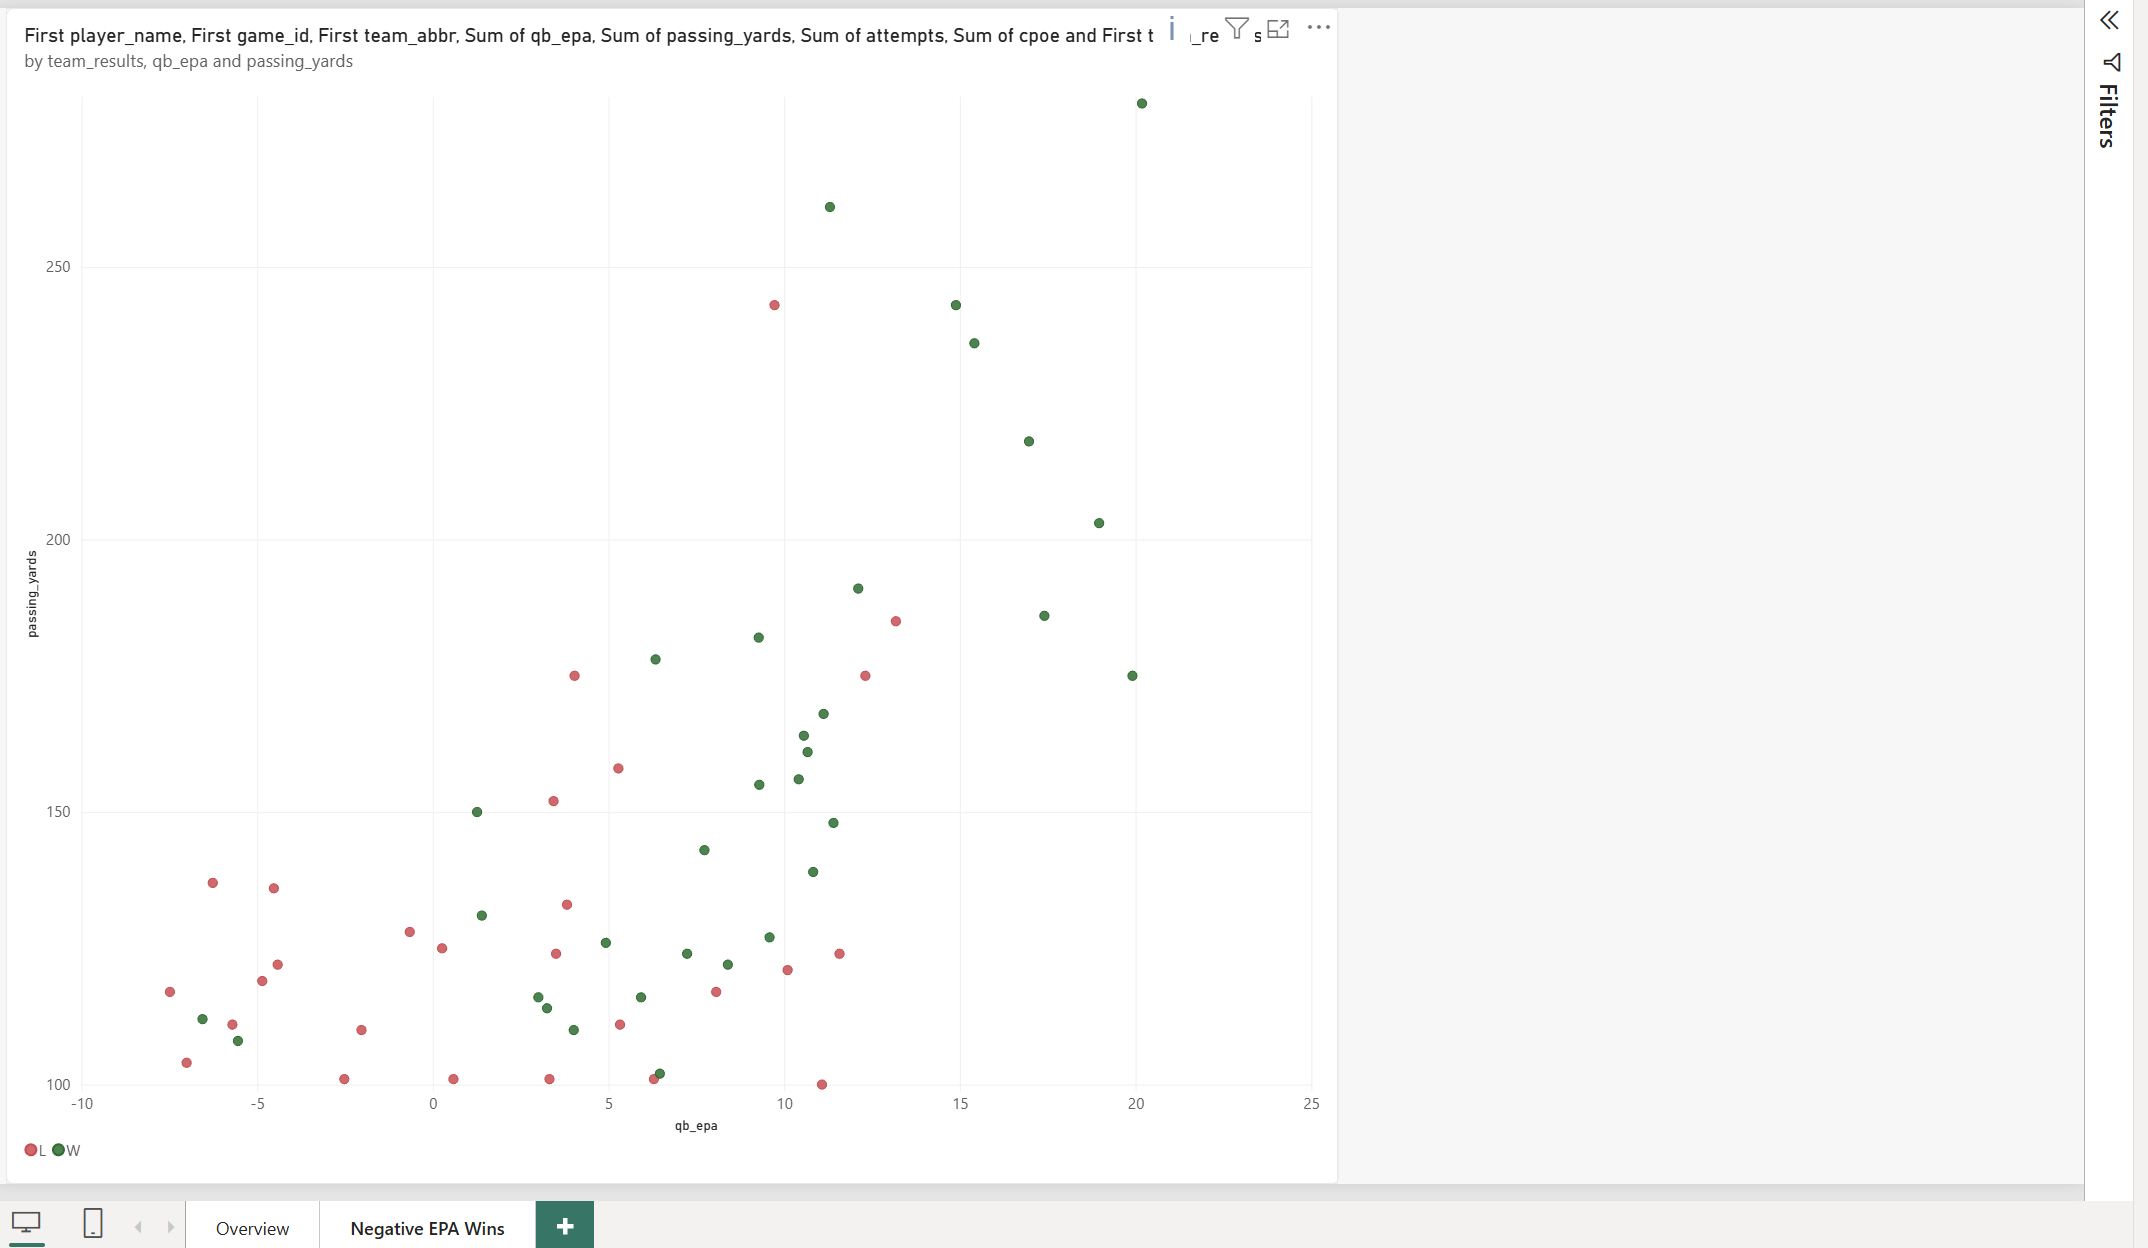

The page's visual inventory and layout, read from the dashboard file:
{"tool":"powerbi","page":{"name":"Negative EPA Wins","canvas":[1920,1080],"ordinal":1},"visuals":[{"type":"scatterChart","fields":{"Series":["nfl_analytics vw_qb_dashboard.team_results"],"X":["nfl_analytics vw_qb_dashboard.qb_epa"],"Y":["nfl_analytics vw_qb_dashboard.passing_yards"]},"box":[10.6,0,1224.4,1080.7],"z":0}]}

Visuals, with their boxes on the page's 1920x1080 design canvas (x1, y1, x2, y2). These are canvas units, not pixel positions in the 2148x1248 screenshot, which may show the page scaled, cropped or inside an application window:
scatterChart - nfl_analytics vw_qb_dashboard.team_results x nfl_analytics vw_qb_dashboard.qb_epa: 11/0/1235/1081
